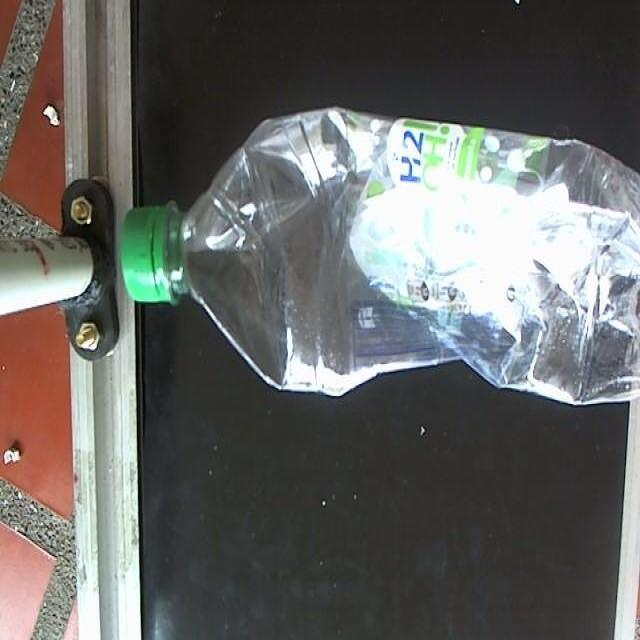defect: (117, 102, 640, 410)
